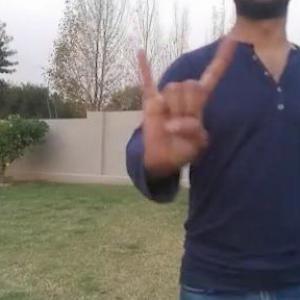takeoff-hand: (132, 33, 238, 168)
